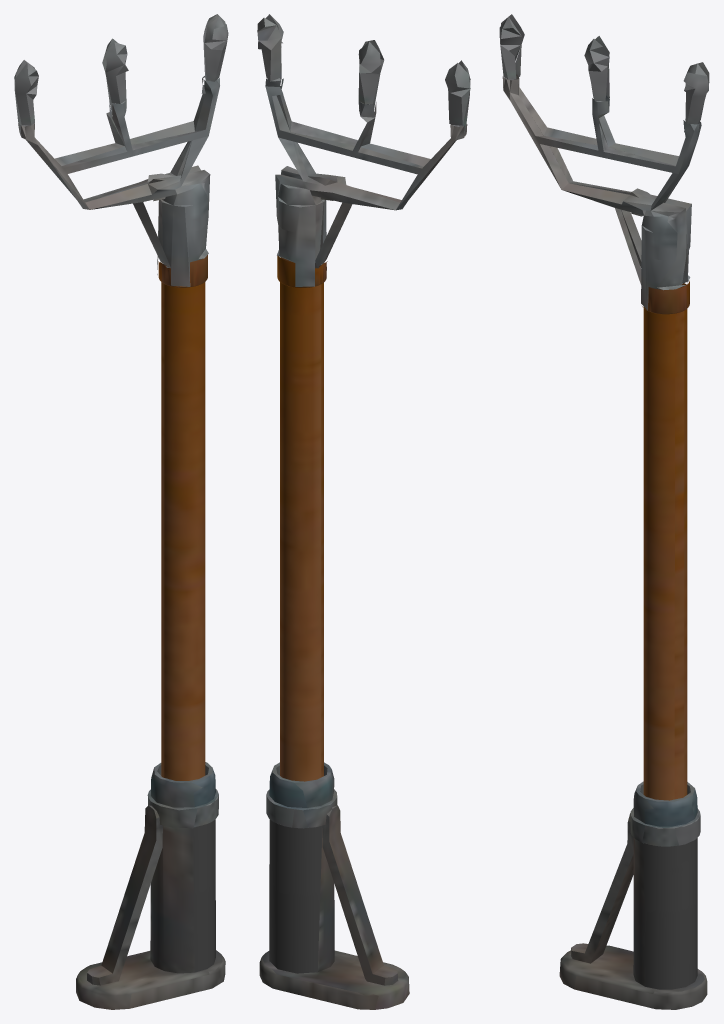
File: small-electric-pole.glb
The picture shows the model from 3 angles, left to right: view 1: azimuth 30°, elevation 25°; view 2: azimuth 150°, elevation 25°; view 3: azimuth 330°, elevation 25°; orthographic projection.
Parts seen in each view (by area): view 1: body; view 2: body; view 3: body.
Boxes of the visible parts, left/top/right/bottom form: body: left=14, top=14, right=228, bottom=1009; body: left=257, top=14, right=470, bottom=1009; body: left=499, top=14, right=709, bottom=1009.
Bounding box in the file's own units: 0.9519 × 4.07 × 0.3009.
1 material, 1 textured.
